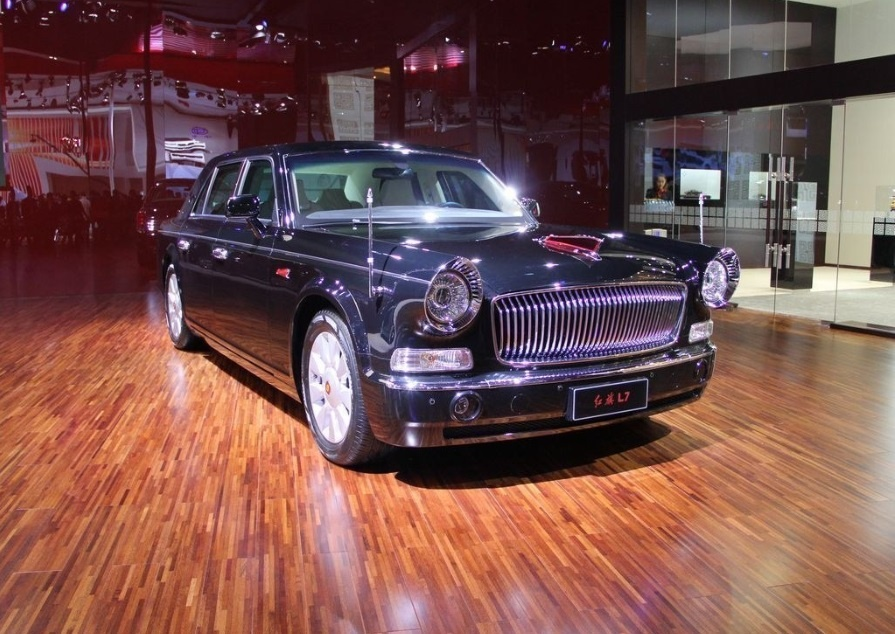family sedan: (160, 124, 757, 483)
